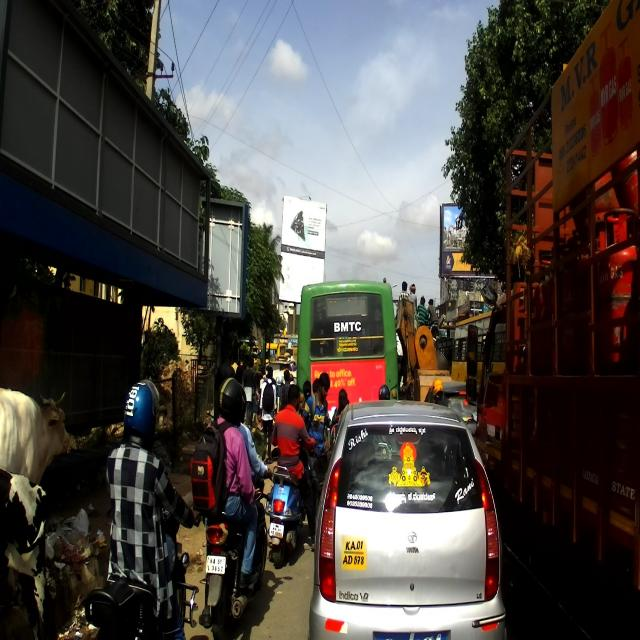Car_TATA: (306, 399, 507, 638)
bus: (295, 280, 398, 418)
motorcycle_Hero: (200, 468, 274, 637)
motorcycle_RoyalEnfield: (83, 511, 200, 639)
scooter: (263, 442, 316, 568)
truck: (463, 0, 638, 639)
